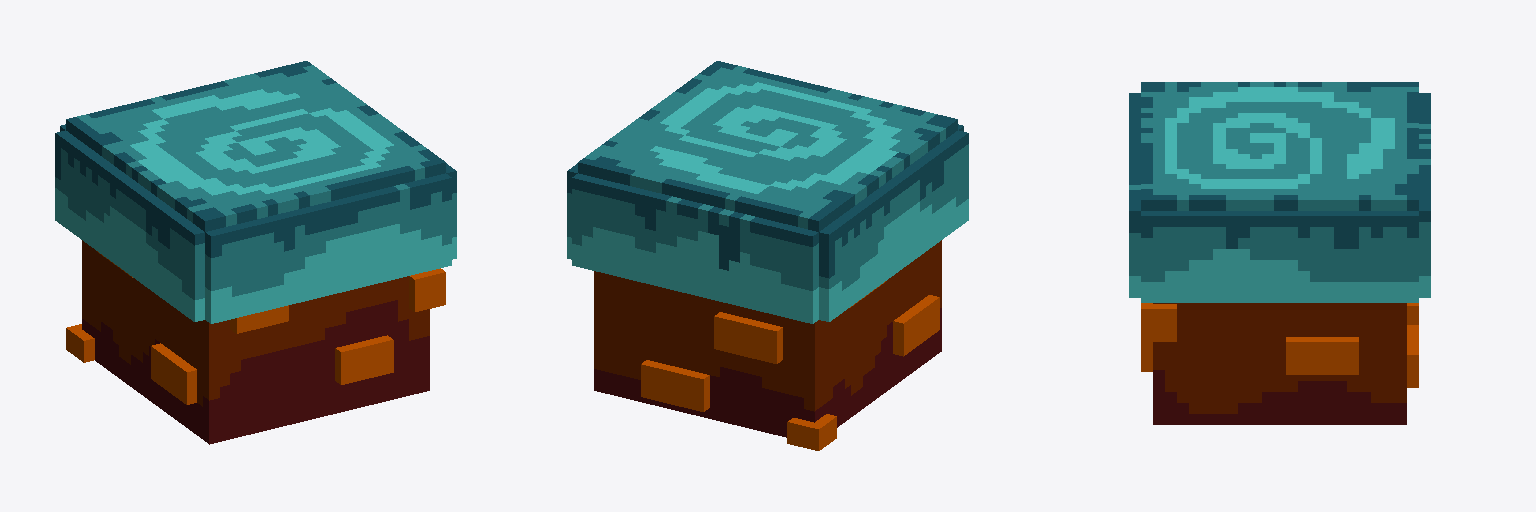
3 views of the same model, side by side, from view 1: azimuth 30°, elevation 25°; view 2: azimuth 150°, elevation 25°; view 3: azimuth 270°, elevation 25° (orthographic).
Visible parts, largest first — view 1: object 1; view 2: object 1; view 3: object 1.
Part boxes in pixels (x1,y1,x2,y2): object 1: (55,61,456,444); object 1: (567,61,968,450); object 1: (1129,82,1430,424).
Size of the model in its own units: 2.5 by 2.1 by 2.5.
Materials: 1 (1 with a texture image).